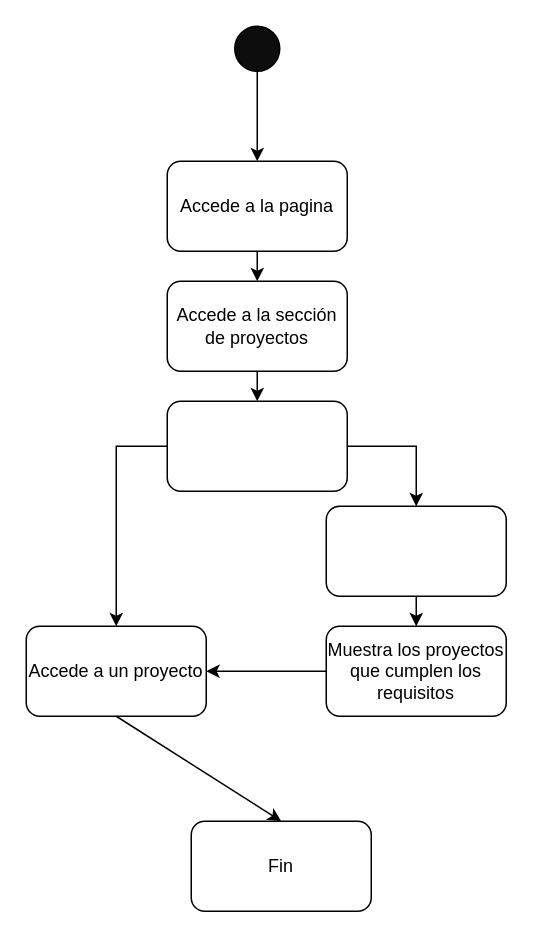
This 533x938 diagram has some shape labels left out. The shapes that lost their labels are listed below. From the top down, each one's centre as x and y in pixels, then its label:
pixel 256 445: Muestra todos los proyectos y un menu de busqueda avanzada
pixel 415 550: Aceede a busqueda y rellena campos
